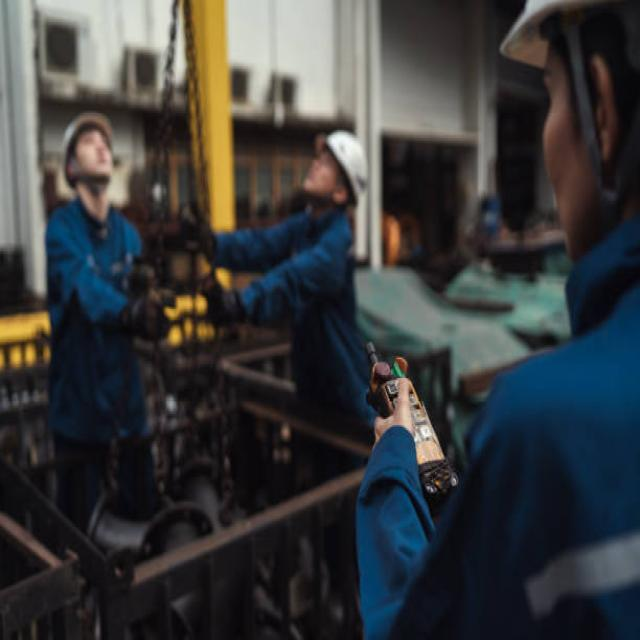Gloves: (166, 183, 229, 267), (196, 264, 254, 348), (126, 280, 182, 353)
helmet: (496, 0, 640, 61), (59, 109, 117, 195), (316, 124, 373, 210)
person: (352, 0, 640, 640), (171, 126, 390, 441), (36, 110, 167, 528)
